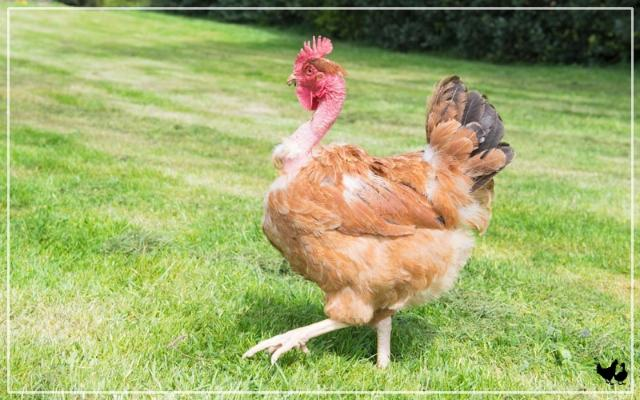Chicken: (245, 34, 516, 375)
